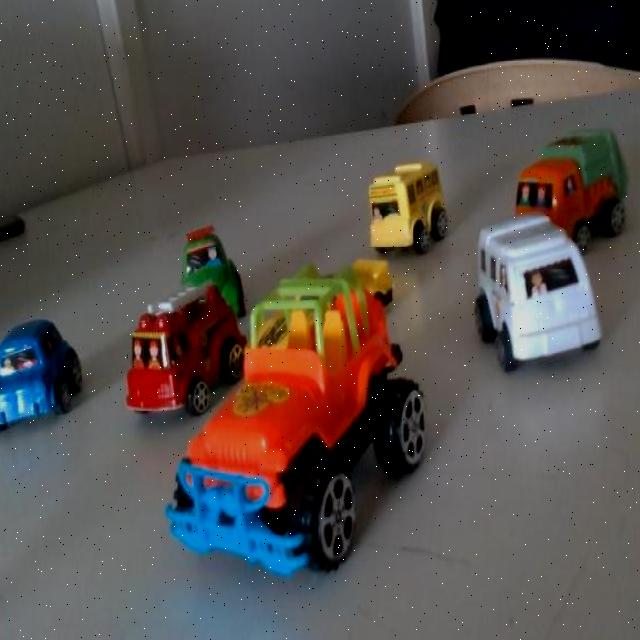car: (157, 384, 312, 578), (235, 255, 373, 390), (463, 223, 586, 356), (113, 288, 209, 432), (497, 127, 604, 255), (0, 308, 80, 455), (164, 229, 232, 322), (358, 160, 420, 250)
